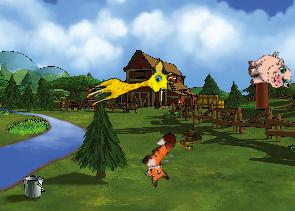fox: (132, 129, 193, 190)
giraffe: (82, 57, 177, 118)
pig: (245, 50, 292, 94)
